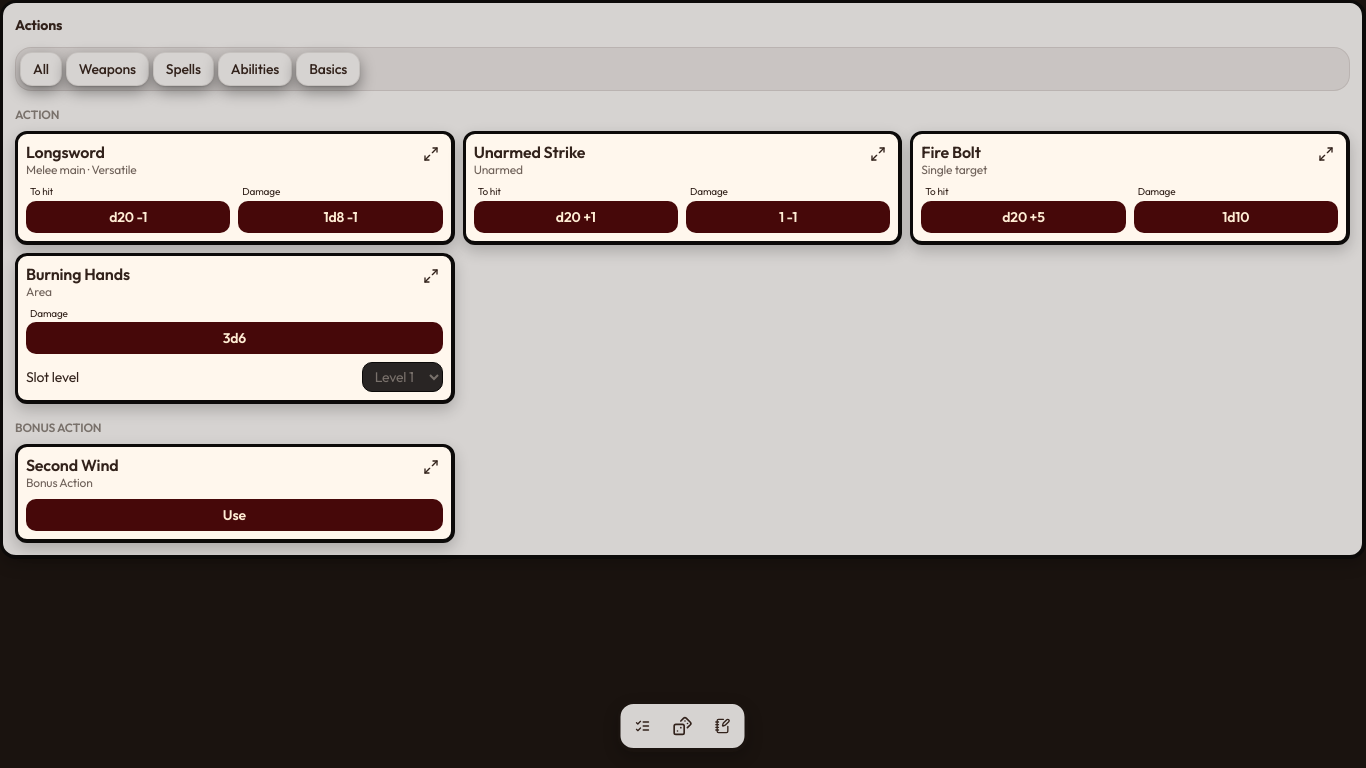
AttacksActionsPanel roll integration › filters the surface with category toggles
Expected: the heading "Second Wind" is shown, [26, 455, 118, 475]
Expected: the button named "Expand Second Wind" is shown, [419, 455, 443, 479]
Click the button "Use". click: (234, 515)
box: [26, 499, 443, 531]
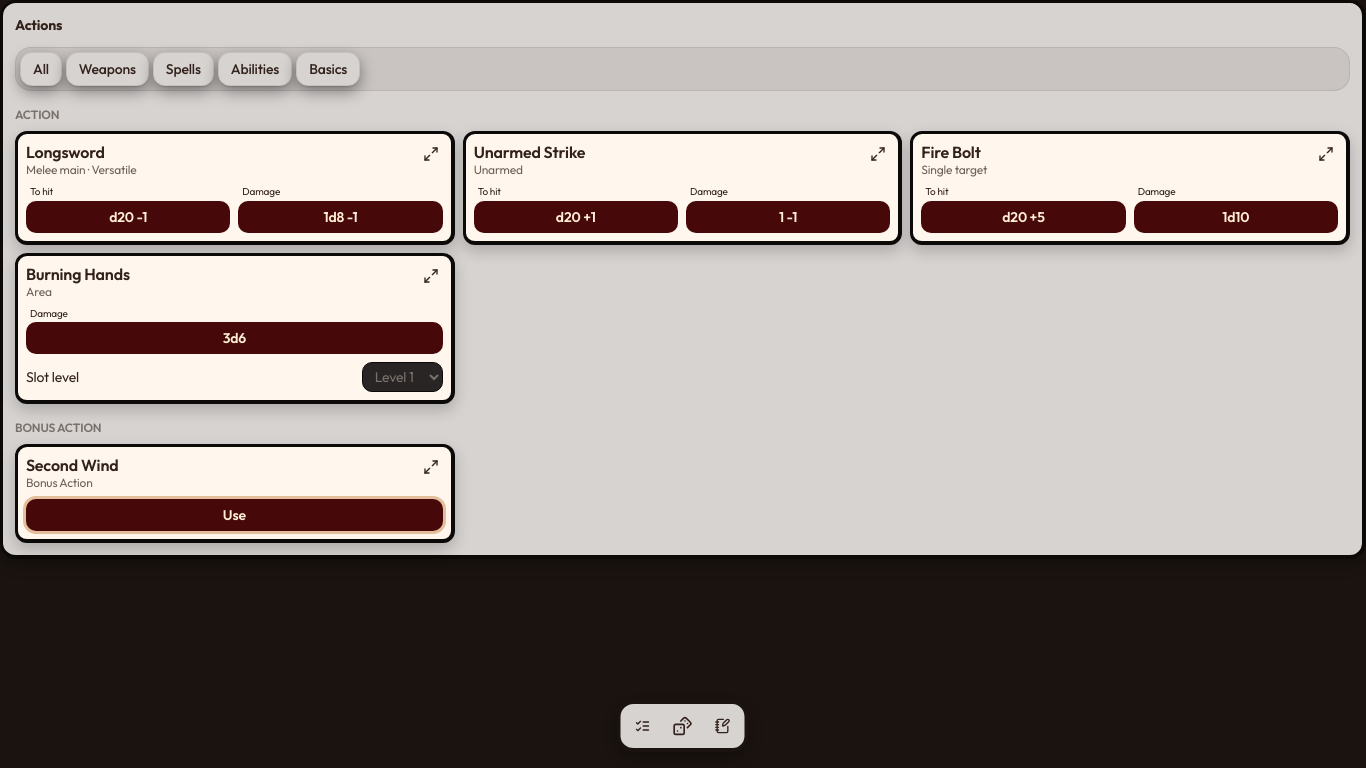
# From show-all, a category click excludes that category.
Click the button "Spells". click: (183, 69)
box: [153, 52, 214, 86]
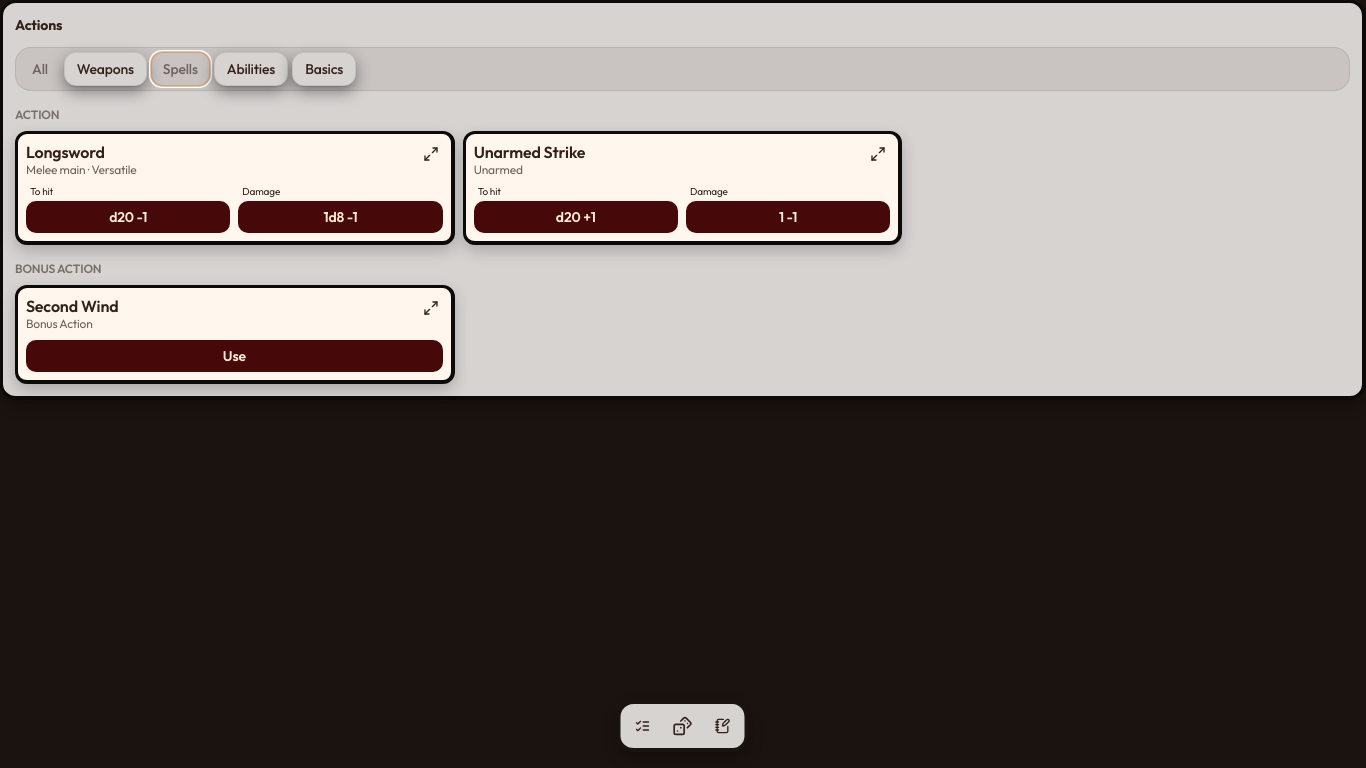
Expected: the heading "Longsword" is shown, [26, 142, 105, 162]
Now the heading "Fire Bolt" is gone
Click the button "Weapons". click: (105, 69)
box: [64, 52, 147, 86]
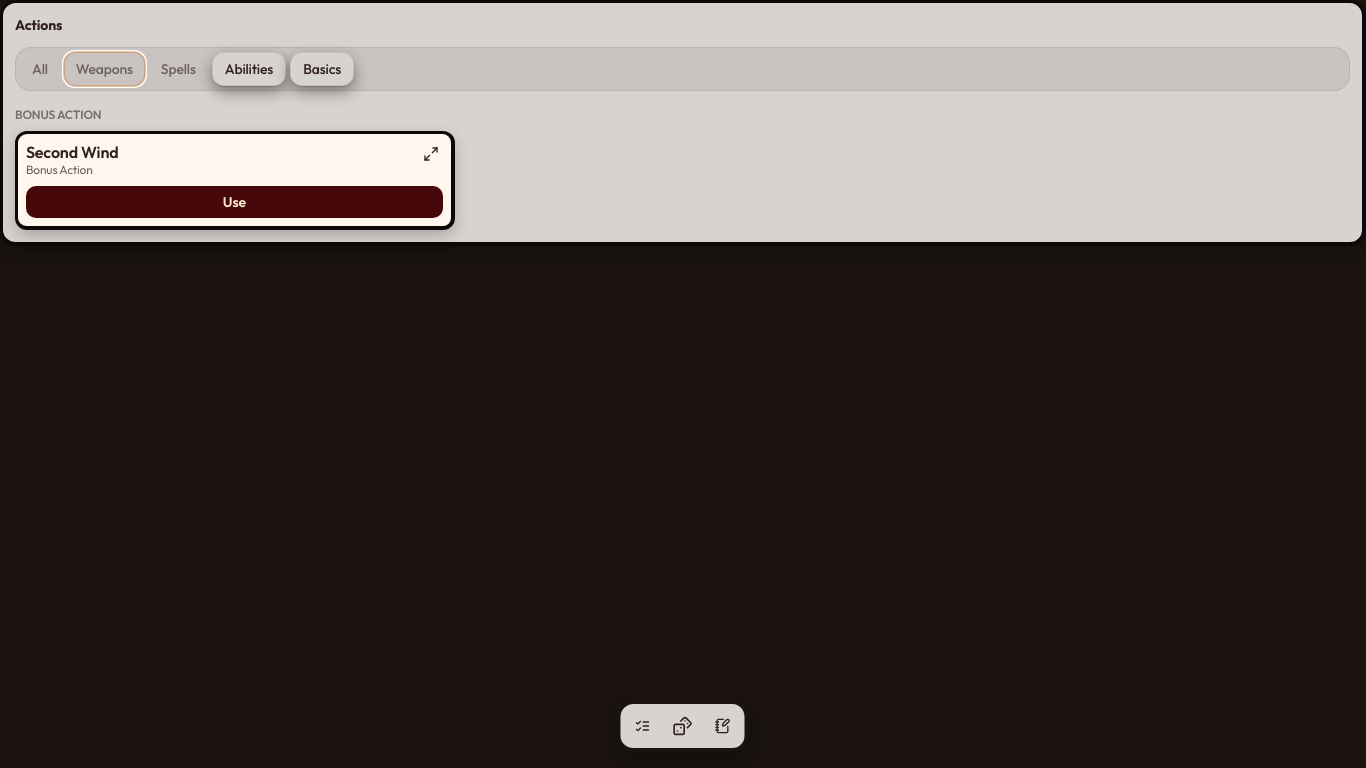
Expected: the heading "Fire Bolt" is not shown
Now the heading "Longsword" is gone
Click the button "All". click: (40, 69)
box: [20, 52, 60, 86]
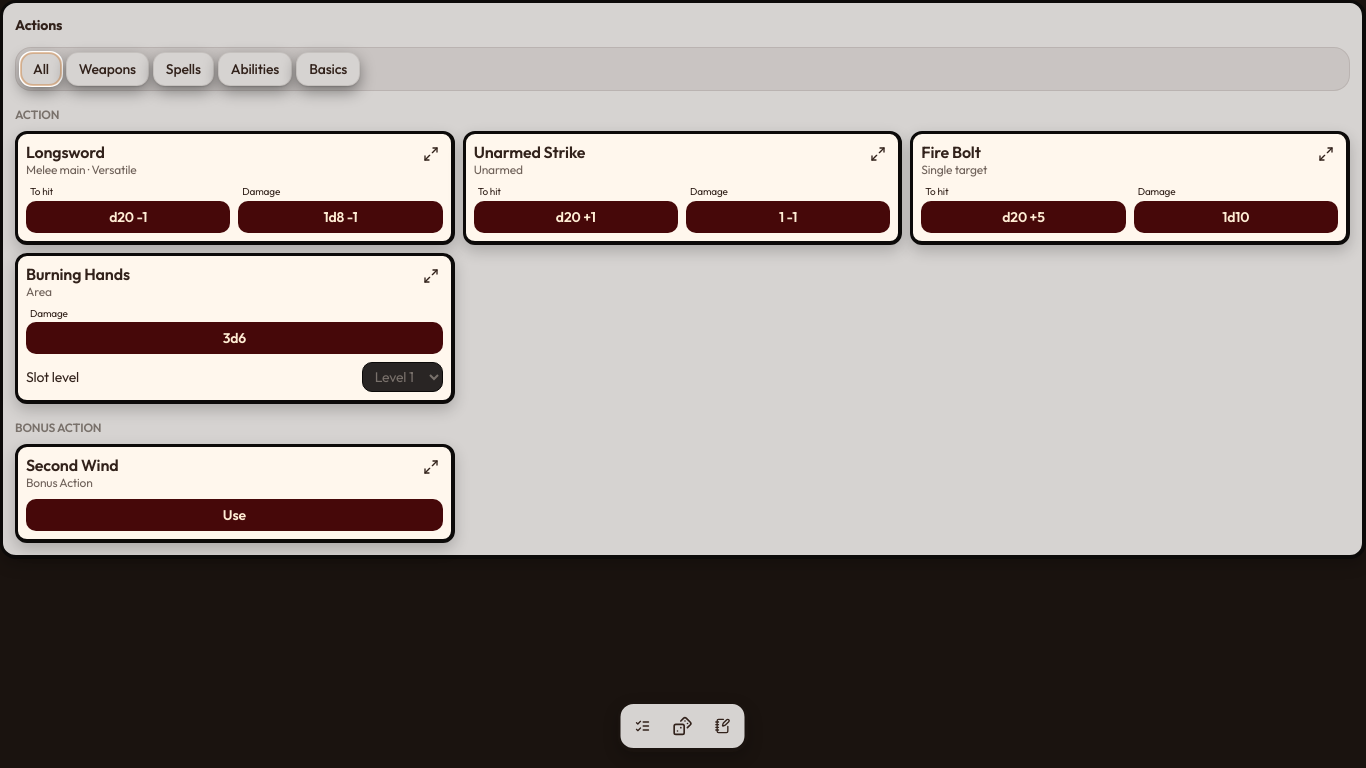
Expected: the heading "Second Wind" is shown, [26, 455, 118, 475]
Now the heading "Longsword" is shown, box [26, 142, 105, 162]
Now the heading "Fire Bolt" is shown, box [921, 142, 987, 162]
